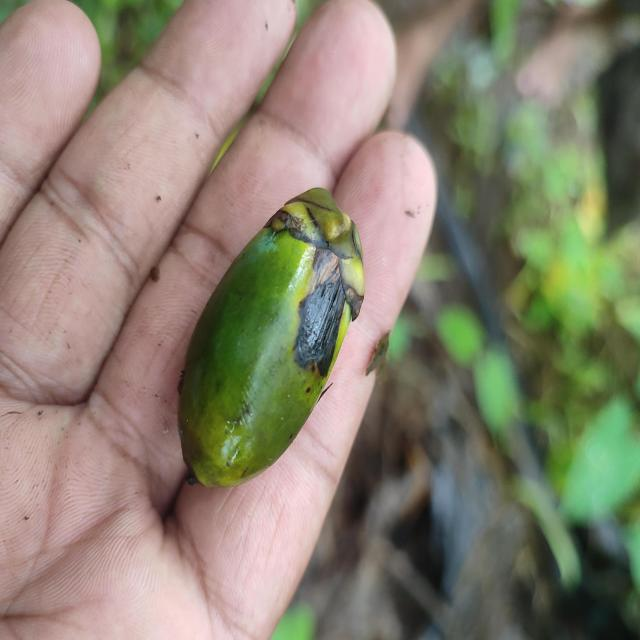damaged: (174, 187, 368, 491)
